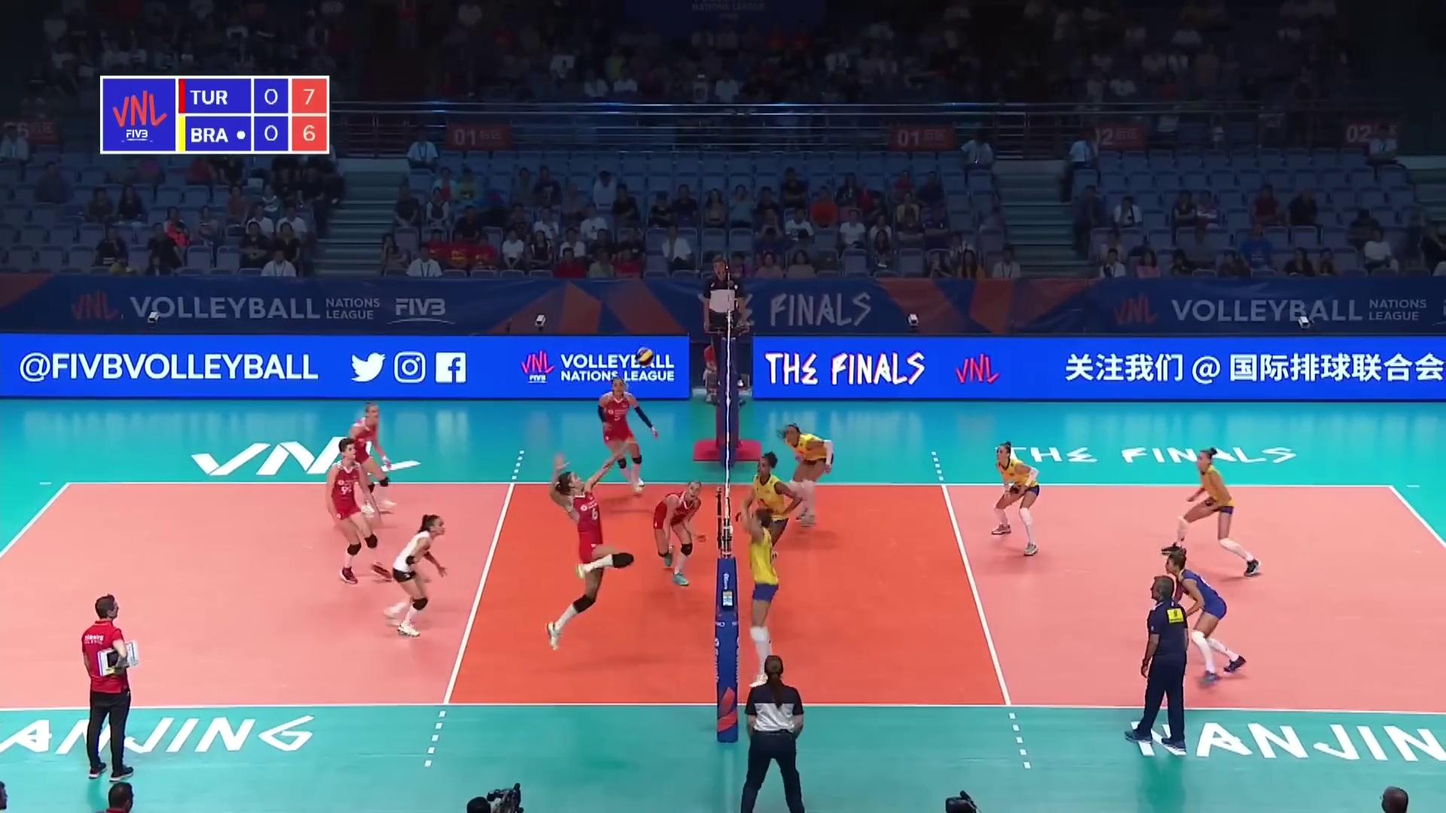player: (546, 436, 639, 648), (1170, 450, 1261, 578), (1162, 551, 1246, 679), (730, 451, 799, 597), (380, 514, 450, 638), (326, 439, 385, 582), (597, 376, 657, 500), (991, 442, 1050, 559), (745, 509, 780, 691), (344, 403, 396, 521), (776, 424, 835, 526), (654, 478, 701, 585)
refree: (745, 657, 806, 810), (706, 258, 742, 387)
